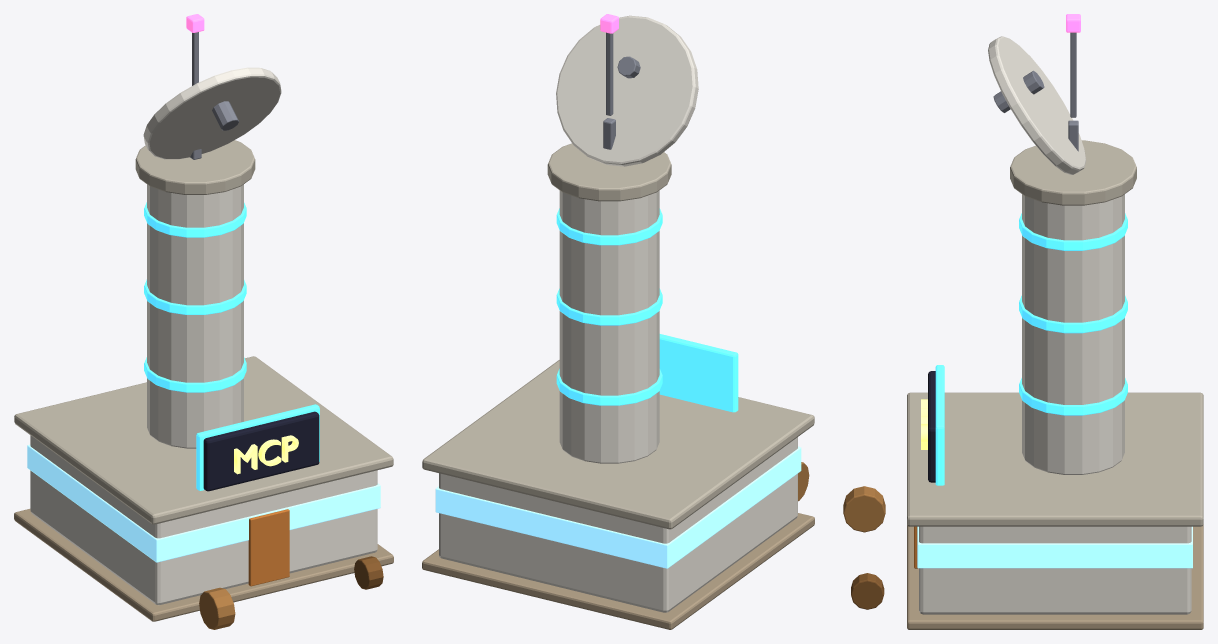
File: relay-tower-DXlmBtb_.glb
3 views of the same model, side by side, from view 1: azimuth 30°, elevation 25°; view 2: azimuth 150°, elevation 25°; view 3: azimuth 270°, elevation 25° (orthographic). The views are drawn at different scales.
Visible parts, largest first — view 1: base_roof, tower, base, base_glass, dish, plinth.001, sign_board.001, tower_cap, door.001, sign_rim.001, drum_a, tower_ring_2 (+5 smaller); view 2: base_roof, tower, base, dish, base_glass, plinth.001, sign_rim.001, tower_cap, tower_ring_0, tower_ring_2, tower_ring_1, antenna; view 3: base_roof, tower, base, base_glass, plinth.001, dish, tower_cap, drum_a, tower_ring_1, tower_ring_0, tower_ring_2, sign_rim.001 (+4 smaller).
Part boxes in pixels (bbox=[...]): base_roof: bbox=[14, 356, 393, 524]; tower: bbox=[147, 184, 243, 448]; base: bbox=[30, 435, 377, 605]; base_glass: bbox=[27, 444, 380, 562]; dish: bbox=[143, 67, 281, 159]; plinth.001: bbox=[14, 509, 393, 621]; sign_board.001: bbox=[203, 411, 319, 491]; tower_cap: bbox=[135, 140, 255, 194]; door.001: bbox=[248, 509, 289, 586]; sign_rim.001: bbox=[196, 404, 319, 490]; drum_a: bbox=[199, 587, 235, 629]; tower_ring_2: bbox=[144, 202, 246, 237]; base_roof: bbox=[422, 360, 814, 529]; tower: bbox=[559, 190, 659, 463]; base: bbox=[439, 437, 797, 612]; dish: bbox=[556, 15, 698, 166]; base_glass: bbox=[435, 446, 801, 568]; plinth.001: bbox=[422, 513, 814, 629]; sign_rim.001: bbox=[659, 334, 738, 412]; tower_cap: bbox=[547, 143, 671, 201]; tower_ring_0: bbox=[556, 368, 662, 405]; tower_ring_2: bbox=[556, 208, 662, 245]; tower_ring_1: bbox=[556, 288, 662, 325]; antenna: bbox=[606, 32, 613, 115]; base_roof: bbox=[907, 392, 1203, 526]; tower: bbox=[1022, 194, 1124, 474]; base: bbox=[919, 526, 1191, 614]; base_glass: bbox=[917, 526, 1192, 568]; plinth.001: bbox=[907, 524, 1203, 629]; dish: bbox=[988, 36, 1086, 174]; tower_cap: bbox=[1010, 140, 1136, 205]; drum_a: bbox=[843, 486, 885, 532]; tower_ring_1: bbox=[1019, 295, 1127, 333]; tower_ring_0: bbox=[1019, 378, 1127, 415]; tower_ring_2: bbox=[1019, 213, 1127, 250]; sign_rim.001: bbox=[935, 365, 944, 485].
Bounding box in the file's own units: 9.8 × 20.1 × 11.9.
